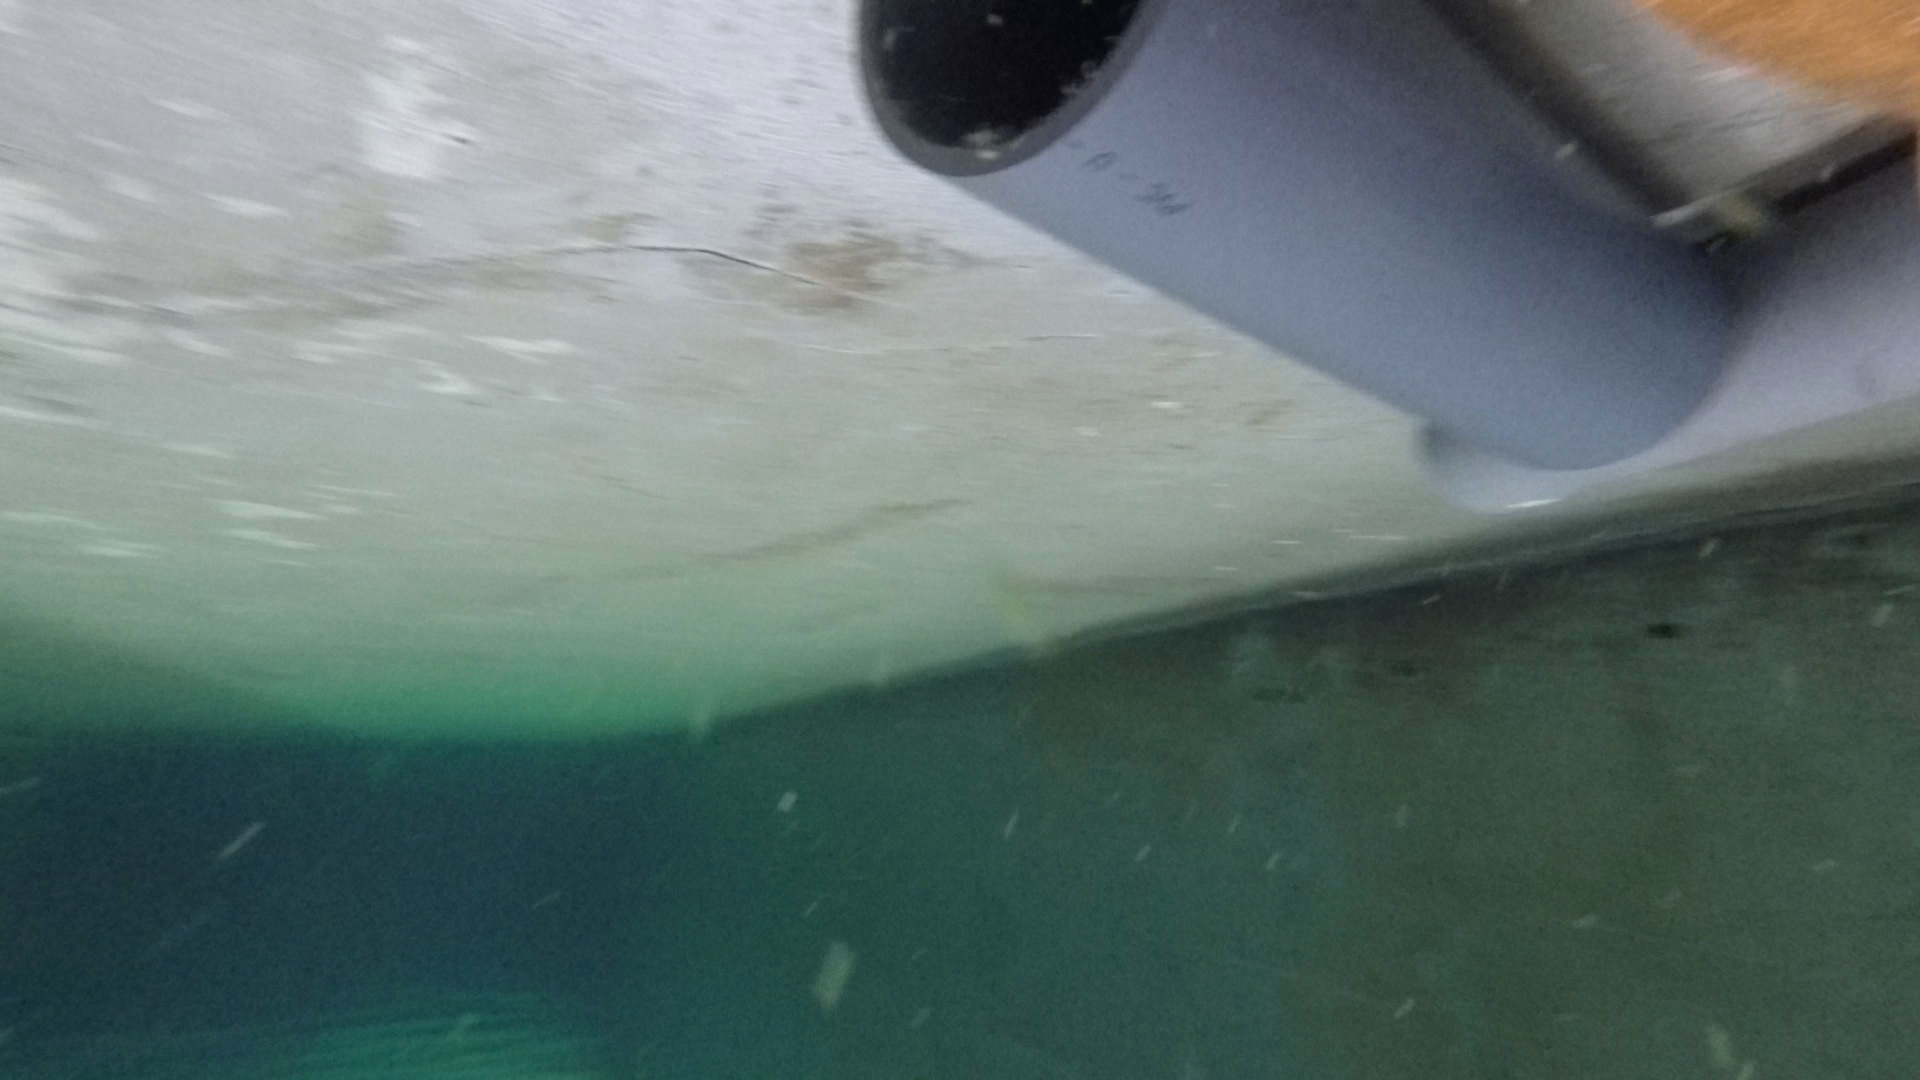pipe: (858, 1, 1735, 469), (1419, 136, 1920, 521)
